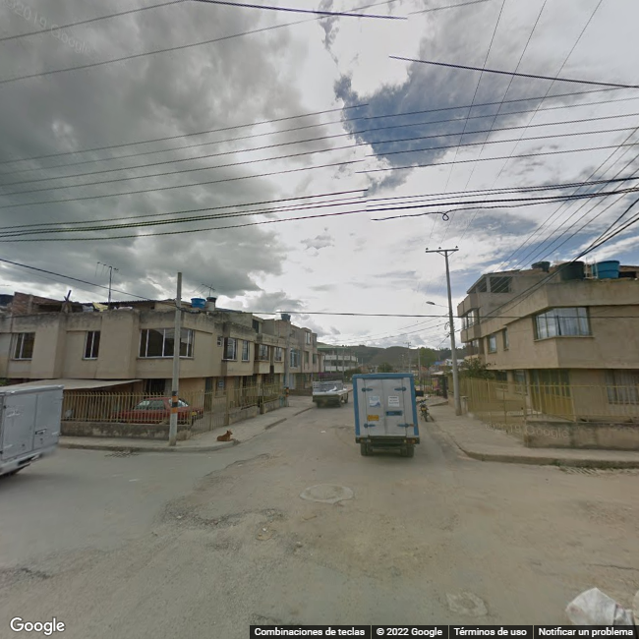D00: (45, 547, 107, 581)
D10: (587, 562, 638, 571)
D40: (174, 509, 236, 528), (251, 521, 276, 548)
